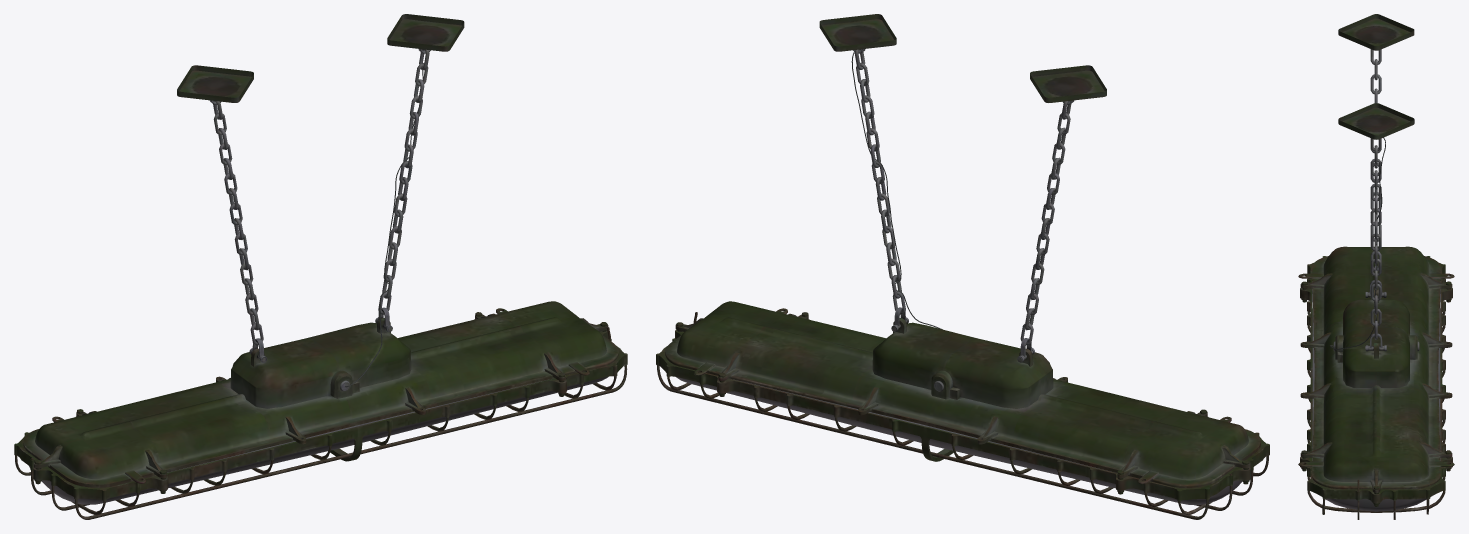
Rendered from caged_light.glb.
3 renders of one model, left to right at view 1: azimuth 30°, elevation 25°; view 2: azimuth 150°, elevation 25°; view 3: azimuth 270°, elevation 25°, orthographic. The views are drawn at different scales.
Visible parts, largest first — view 1: caged_hanging_light; view 2: caged_hanging_light; view 3: caged_hanging_light.
Part boxes in pixels (x1,y1,x2,y2): caged_hanging_light: [14, 14, 627, 519]; caged_hanging_light: [656, 14, 1269, 519]; caged_hanging_light: [1298, 14, 1454, 519].
Size of the model in its own units: 1.16 by 0.7501 by 0.3149.
1 material, 1 textured.
